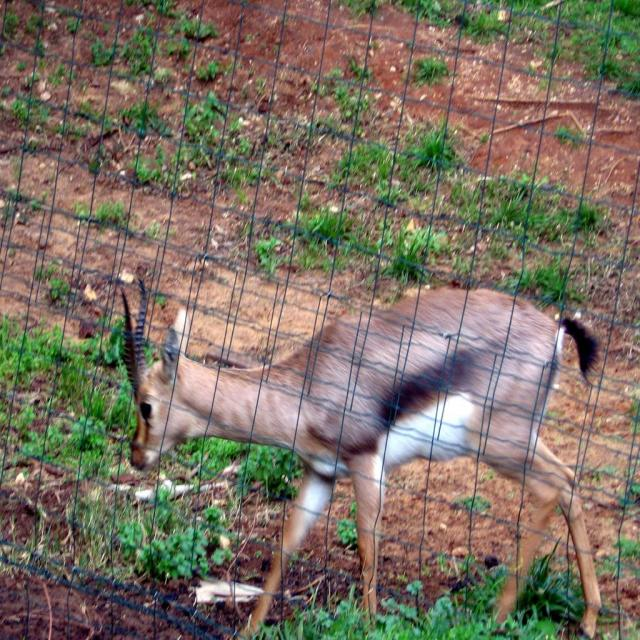Deer: (118, 277, 601, 640)
